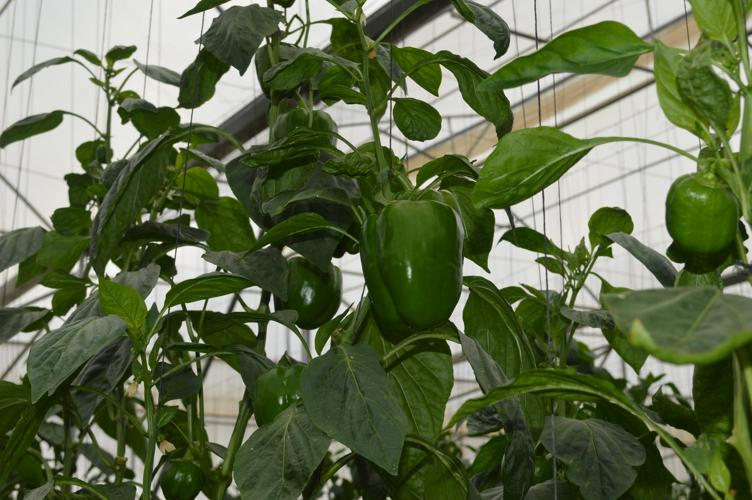BellPepper: (362, 204, 464, 334), (266, 110, 337, 191), (664, 176, 735, 257), (277, 257, 338, 331), (257, 365, 305, 420), (157, 461, 204, 497)
